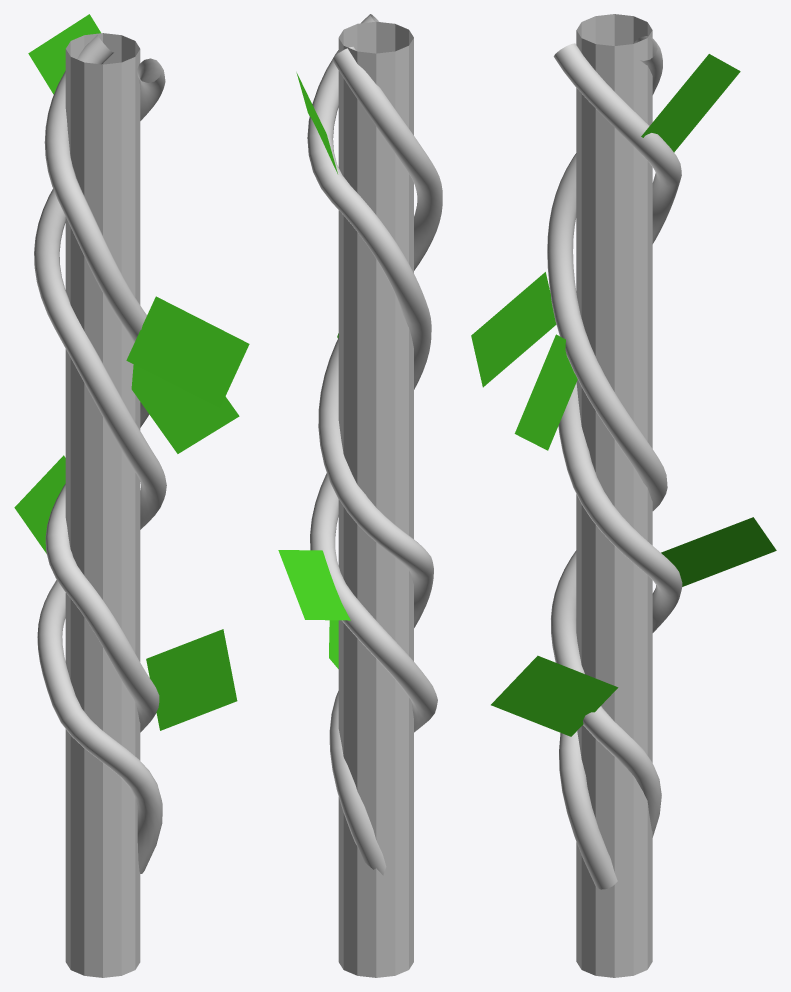
The model's file is WaageTop.fbx.
3 renders of one model, left to right at view 1: azimuth 30°, elevation 25°; view 2: azimuth 150°, elevation 25°; view 3: azimuth 270°, elevation 25°, orthographic. The views are drawn at different scales.
Parts seen in each view (by area): view 1: TopConnector.002; view 2: TopConnector.002; view 3: TopConnector.002.
Part boxes in pixels (x1,y1,x2,y2): TopConnector.002: (14,14,249,977); TopConnector.002: (278,14,442,977); TopConnector.002: (471,14,776,977).
Size of the model in its own units: 210 by 114 by 705.
